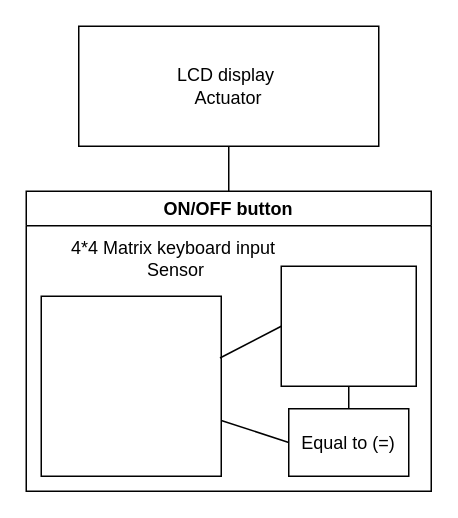
The diagram is 458 pixels wide and 518 high, and some of its shapes have lost their labels. The centre of each missing label's shape, as x and y in pixels:
"Numbers input" belongs at point 130,385.
"Operations" belongs at point 348,325.
